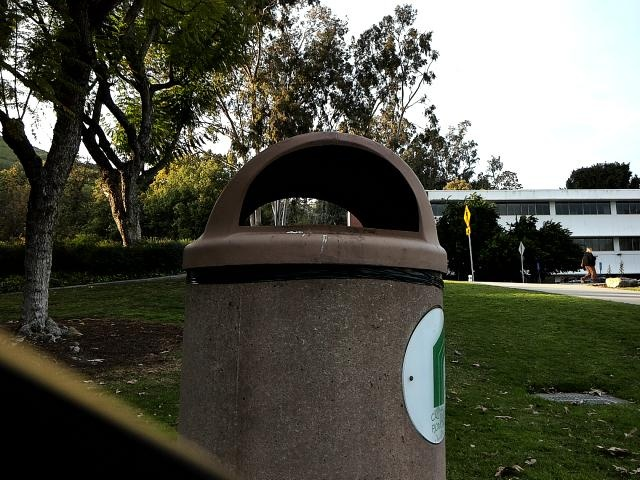trashcan: (176, 127, 461, 480)
